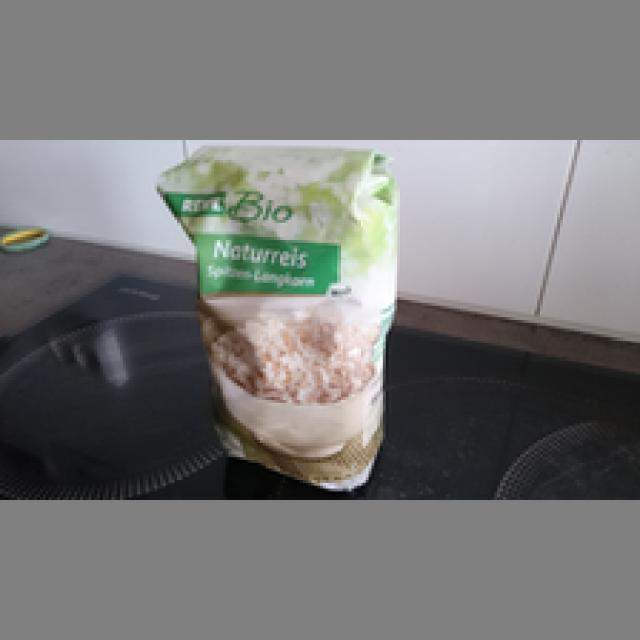groceries: (154, 137, 400, 492)
